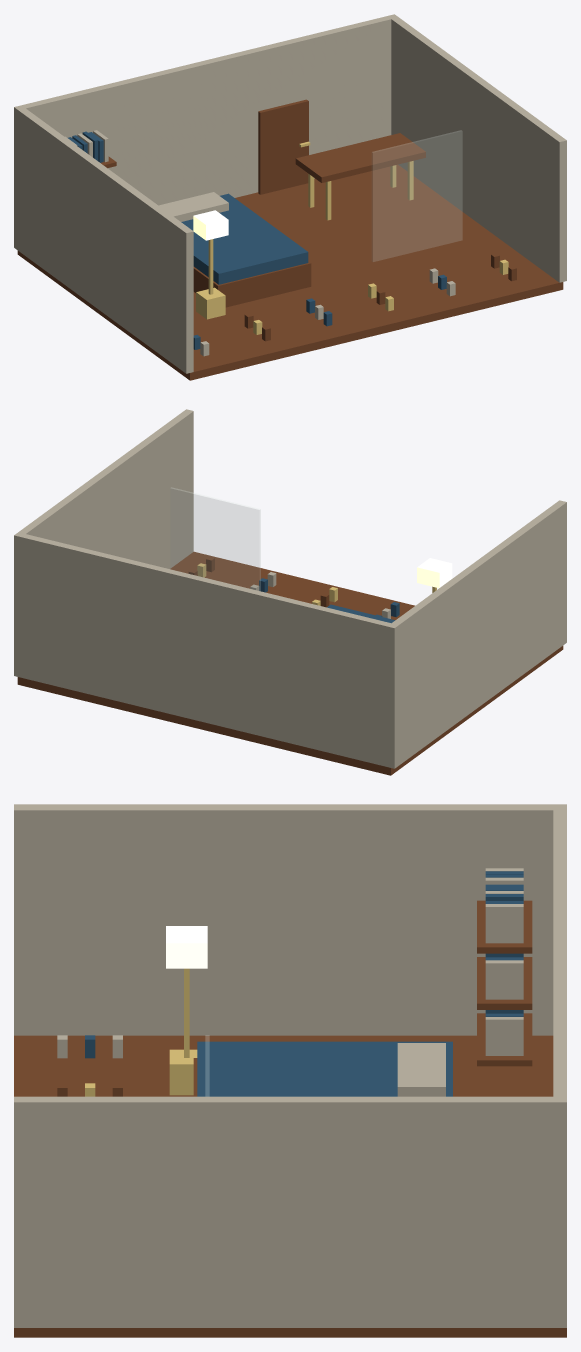
Rendered from scene-room.gltf.
3 renders of one model, top to bottom at view 1: azimuth 30°, elevation 25°; view 2: azimuth 150°, elevation 25°; view 3: azimuth 270°, elevation 25°, orthographic. The views are drawn at different scales.
Visible parts, largest first — view 1: Floor, BackWall, LeftWall, RightWall, GlassPartition, Mattress, Door, Desk, BedFrame, Pillow, LampShade, LampBase; view 2: BackWall, LeftWall, RightWall, Floor, GlassPartition, LampShade; view 3: RightWall, LeftWall, Floor, Mattress, Book (×3), Shelf (×3), BackWall, Pillow, LampShade, LampBase.
Boxes of the visible parts, bbox=[...] form: Floor: bbox=[17, 164, 563, 380]; BackWall: bbox=[22, 15, 394, 205]; LeftWall: bbox=[14, 105, 193, 373]; RightWall: bbox=[391, 14, 566, 282]; GlassPartition: bbox=[372, 130, 462, 261]; Mattress: bbox=[181, 193, 308, 284]; Door: bbox=[258, 99, 308, 194]; Desk: bbox=[295, 133, 425, 182]; BedFrame: bbox=[193, 261, 311, 307]; Pillow: bbox=[158, 192, 228, 221]; LampShade: bbox=[193, 210, 228, 240]; LampBase: bbox=[196, 287, 225, 319]; BackWall: bbox=[17, 533, 394, 767]; LeftWall: bbox=[387, 500, 566, 768]; RightWall: bbox=[14, 409, 193, 677]; Floor: bbox=[17, 551, 563, 775]; GlassPartition: bbox=[170, 487, 260, 590]; LampShade: bbox=[417, 558, 452, 588]; RightWall: bbox=[14, 1096, 566, 1327]; LeftWall: bbox=[14, 804, 566, 1035]; Floor: bbox=[14, 1035, 566, 1337]; Mattress: bbox=[197, 1041, 452, 1096]; Book (×3): bbox=[485, 904, 523, 1055]; Shelf (×3): bbox=[477, 900, 532, 1066]; BackWall: bbox=[553, 807, 566, 1099]; Pillow: bbox=[397, 1043, 445, 1096]; LampShade: bbox=[166, 926, 207, 968]; LampBase: bbox=[169, 1049, 197, 1095].
Bounding box in the file's own units: 10.2 × 3.8 × 8.
